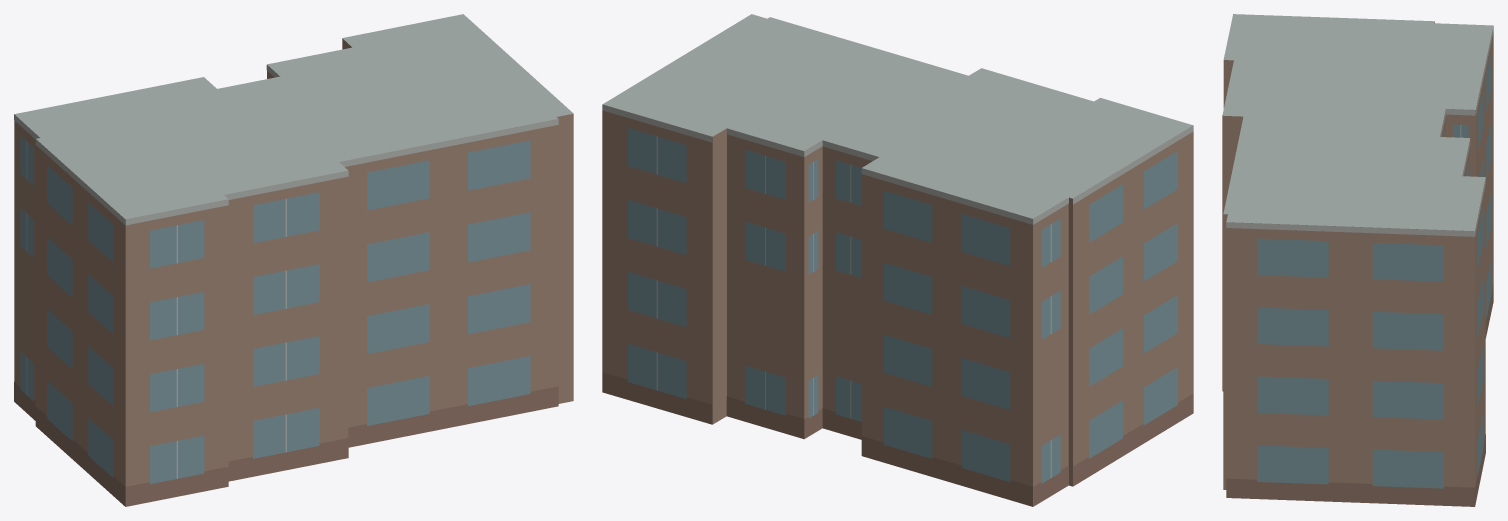
The model's file is survey-upis-32610891.glb.
3 views of the same model, side by side, from view 1: azimuth 30°, elevation 25°; view 2: azimuth 150°, elevation 25°; view 3: azimuth 270°, elevation 25° (orthographic). The views are drawn at different scales.
Parts seen in each view (by area): view 1: survey-upis-32610891.tmp; view 2: survey-upis-32610891.tmp; view 3: survey-upis-32610891.tmp.
Part boxes in pixels (box(x1,y1,x2,y2)): survey-upis-32610891.tmp: box(14, 14, 573, 506); survey-upis-32610891.tmp: box(602, 14, 1193, 506); survey-upis-32610891.tmp: box(1222, 14, 1493, 506).
Bounding box in the file's own units: 19.78 × 11.7 × 10.45.
